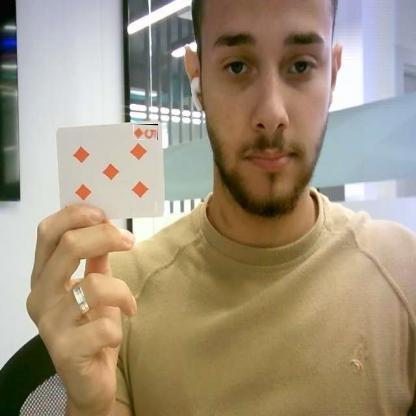5D: (134, 124, 158, 140)
